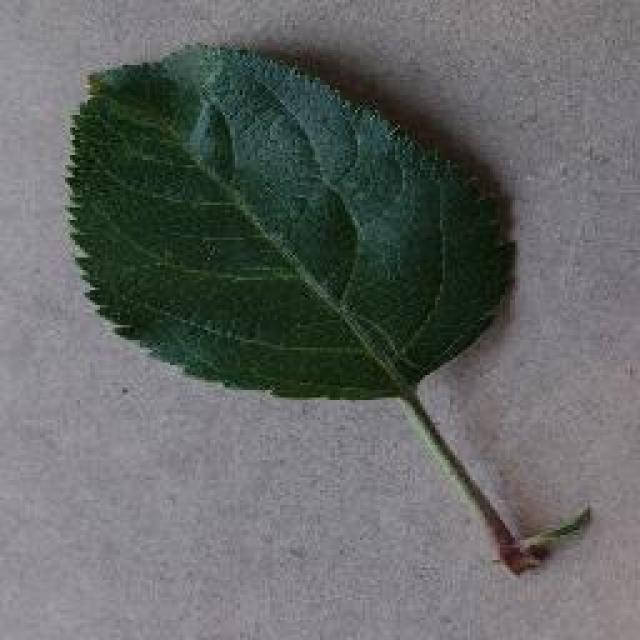apple healthy: (62, 38, 590, 578)
